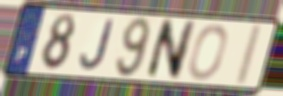8: (38, 12, 75, 73)
9: (114, 15, 154, 80)
I: (232, 21, 265, 88)
J: (78, 18, 116, 73)
N: (143, 17, 198, 81)
O: (186, 23, 230, 82)
